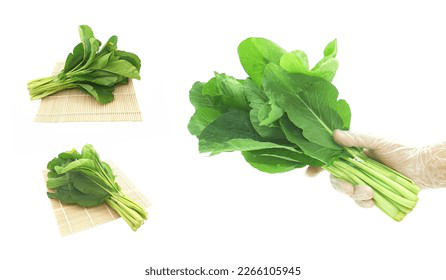Sawi: (202, 27, 426, 227)
